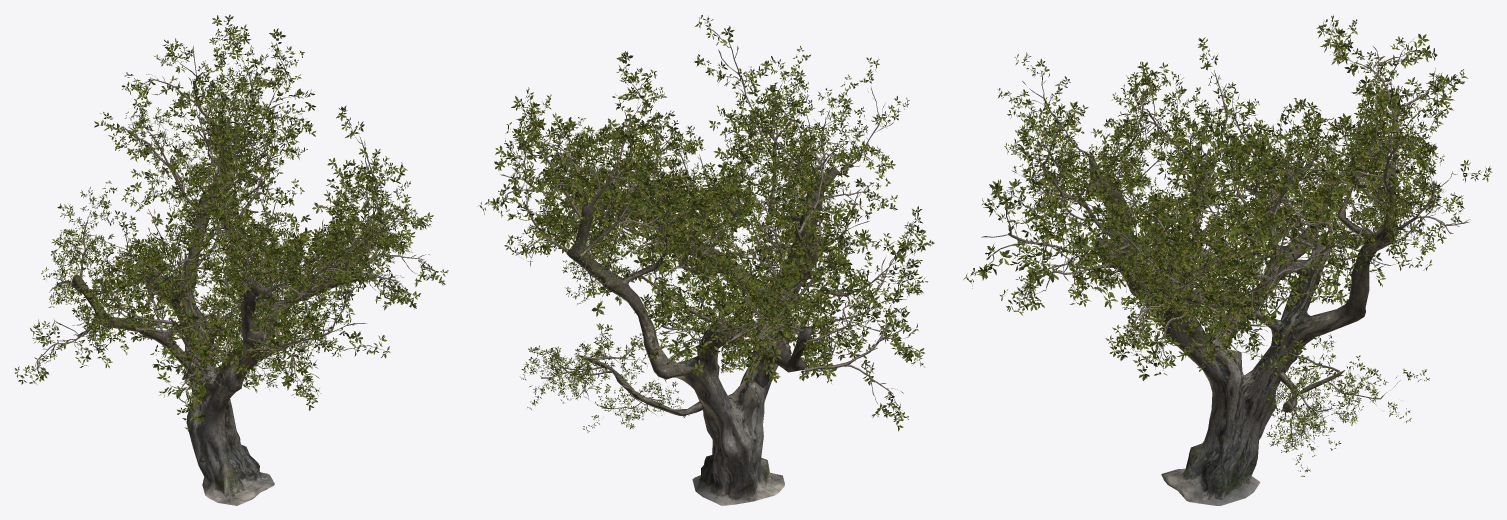
File: island_tree_01-high.glb
The picture shows the model from 3 angles, left to right: view 1: azimuth 30°, elevation 25°; view 2: azimuth 150°, elevation 25°; view 3: azimuth 270°, elevation 25°; orthographic projection. The views are drawn at different scales.
Visible parts, largest first — view 1: island_tree_01_LOD0; view 2: island_tree_01_LOD0; view 3: island_tree_01_LOD0.
Boxes of the visible parts, <box> form: island_tree_01_LOD0: <box>14,14,448,505</box>; island_tree_01_LOD0: <box>479,15,934,505</box>; island_tree_01_LOD0: <box>963,15,1492,505</box>.
Size of the model in its own units: 4.75 by 5.02 by 4.82.
3 materials, 3 textured.
